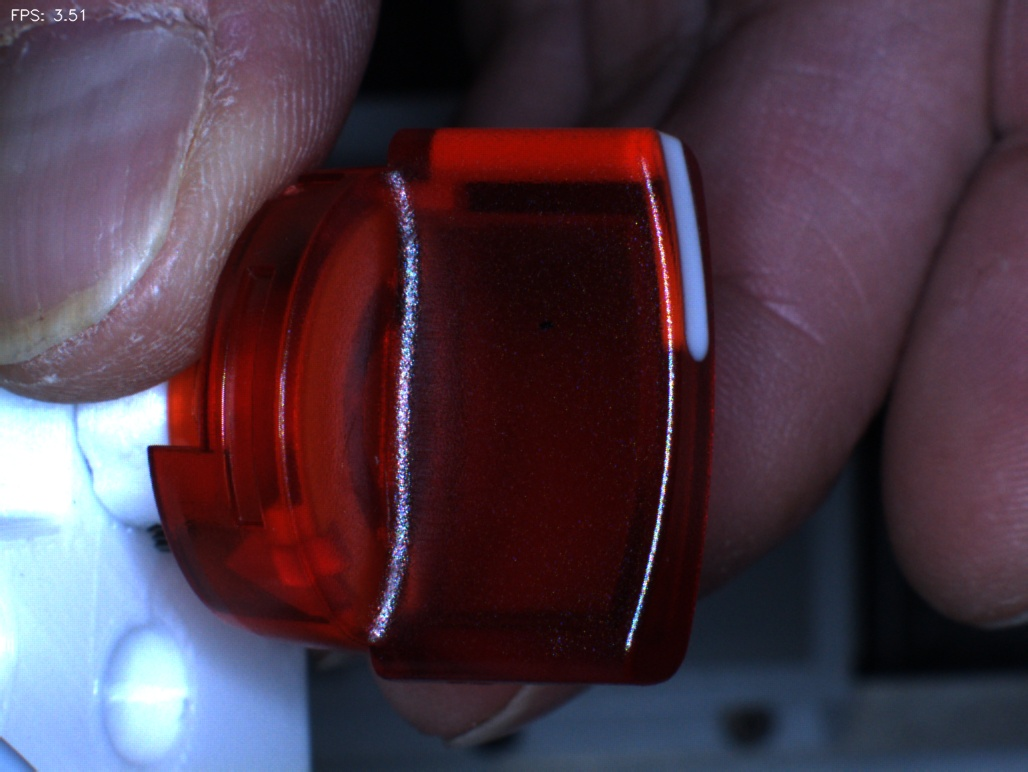PointNoir: (502, 277, 580, 370)
